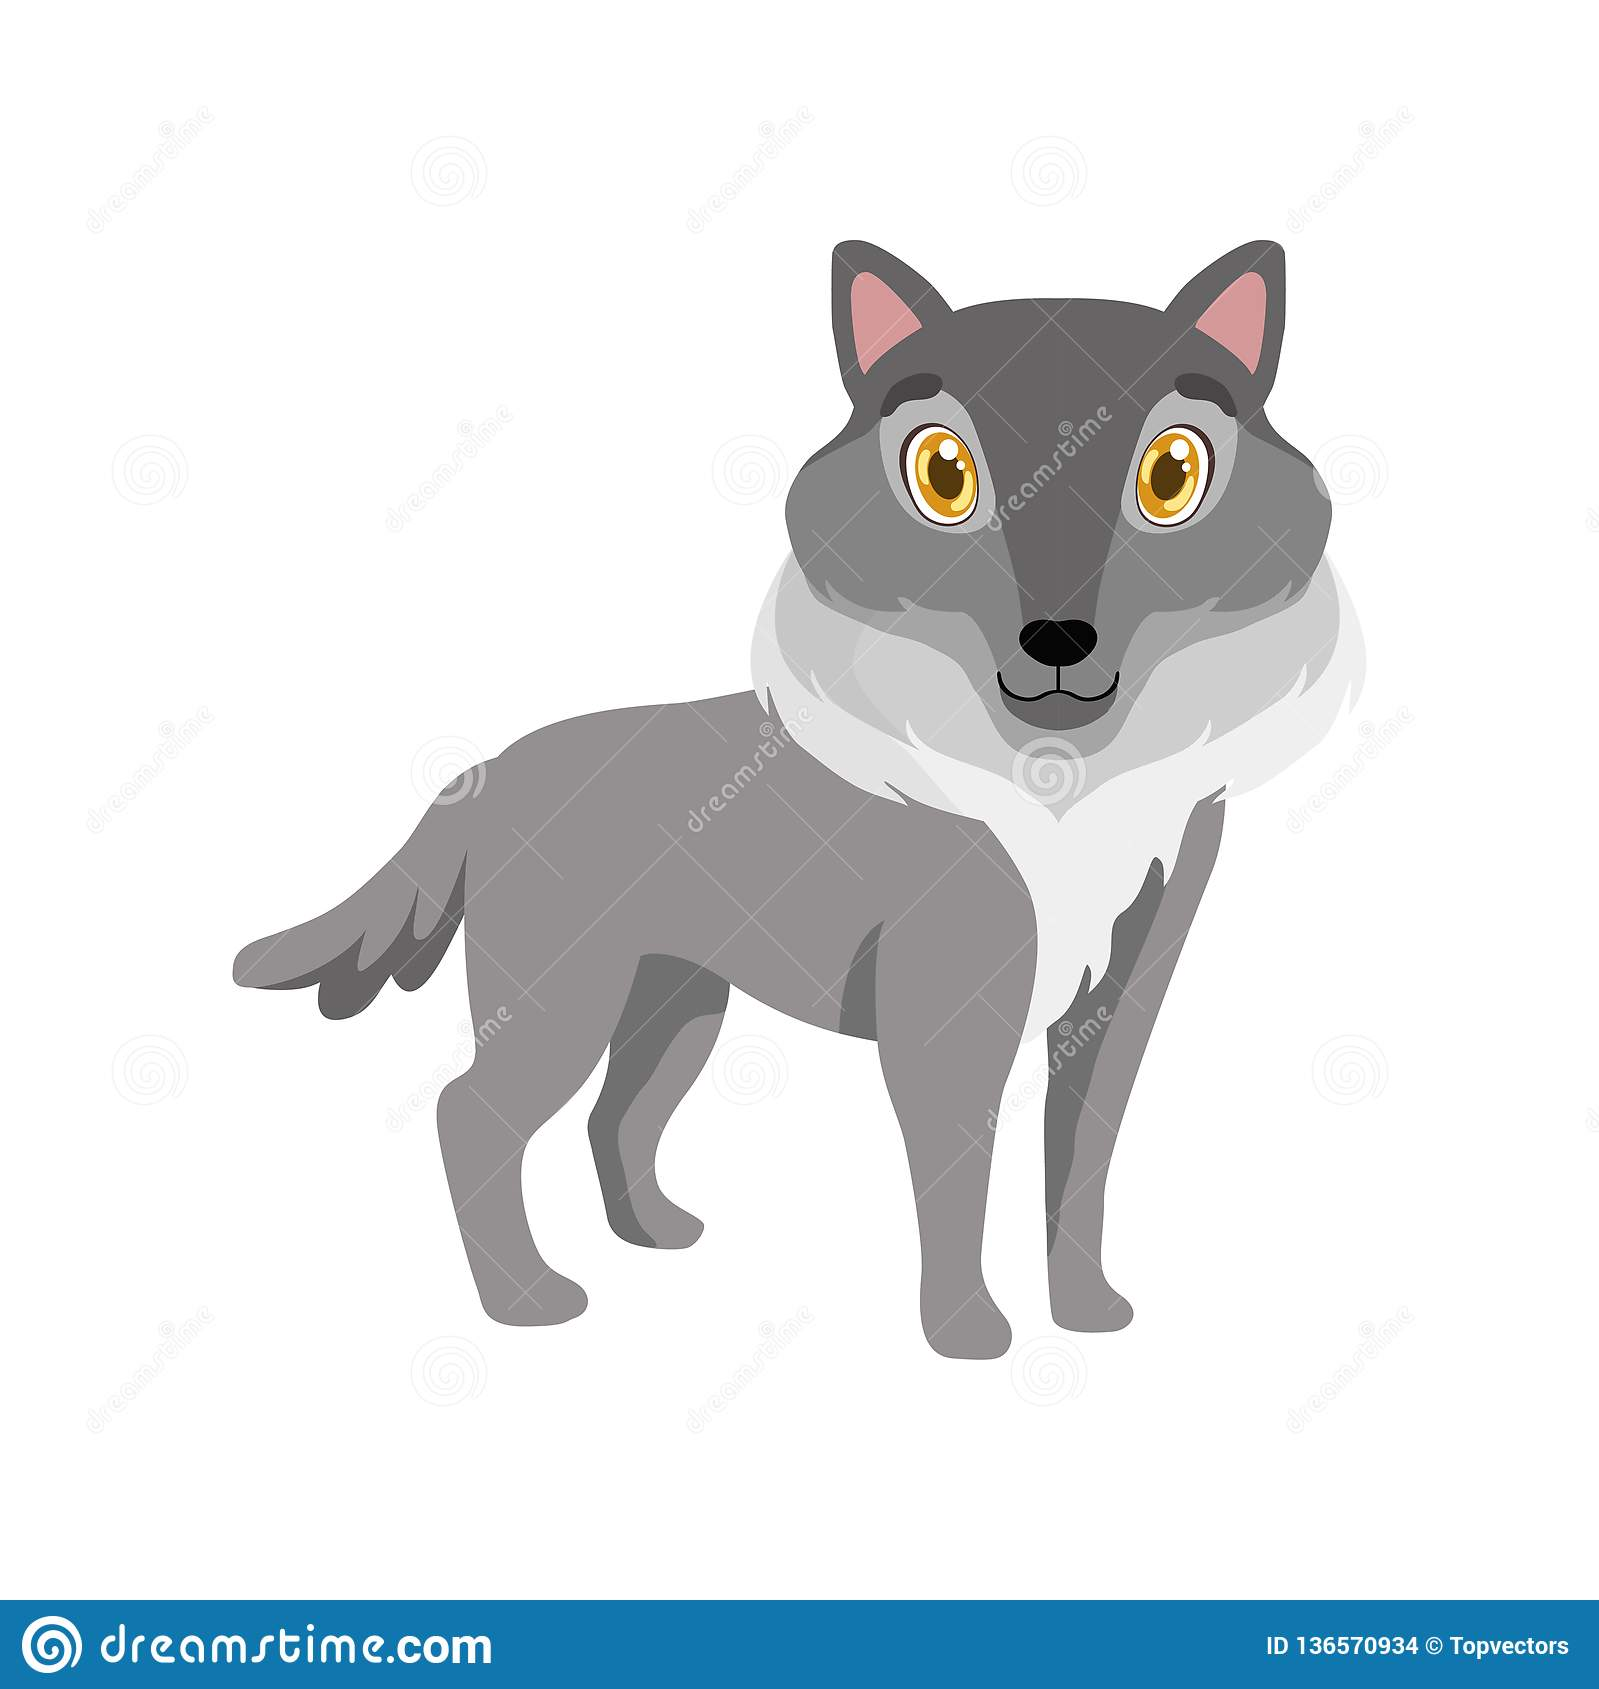Lobo: (216, 194, 1381, 1414)
